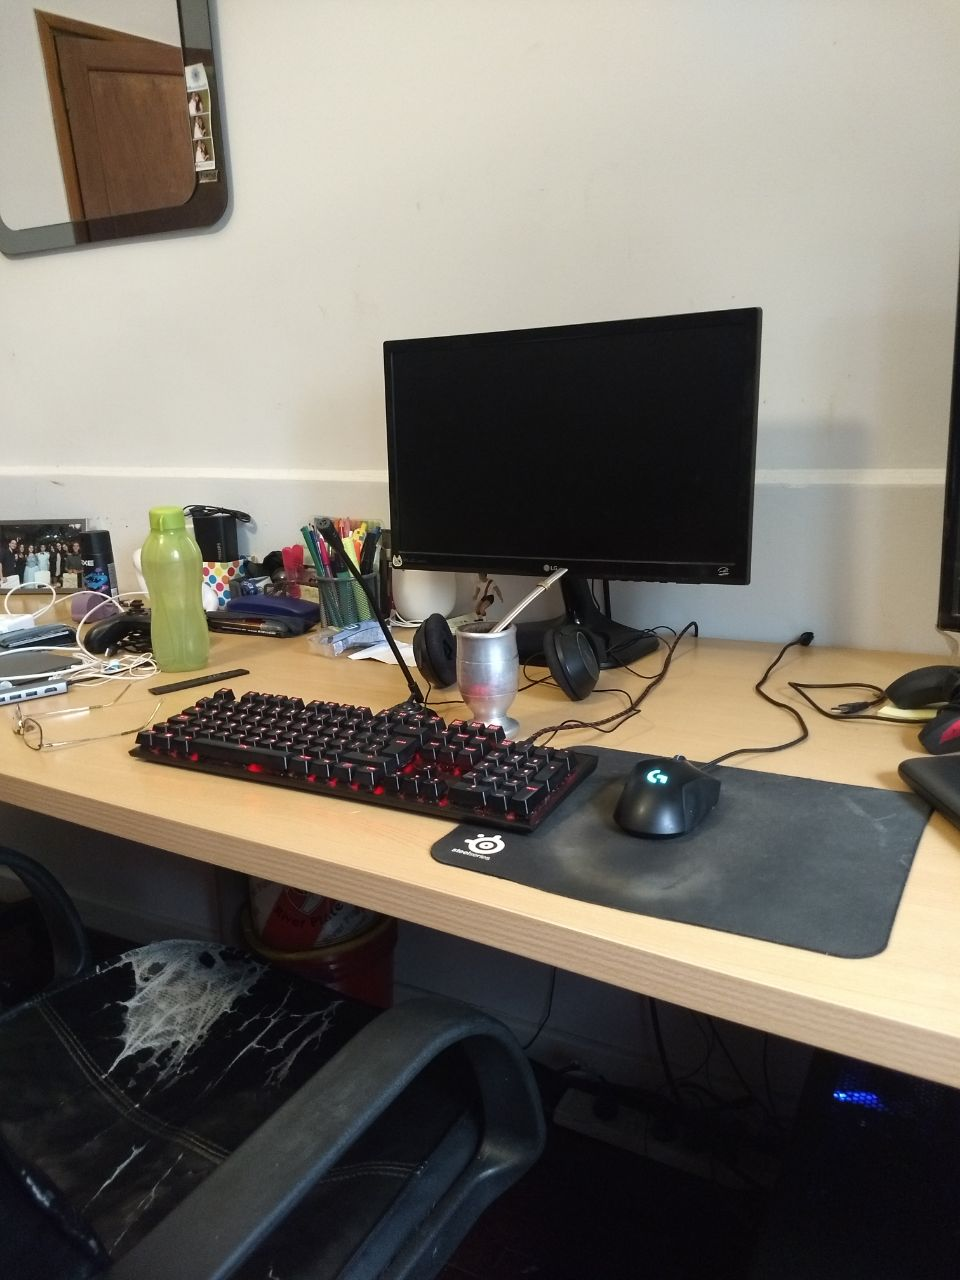mate: (444, 566, 574, 741)
metal: (442, 564, 572, 739)
